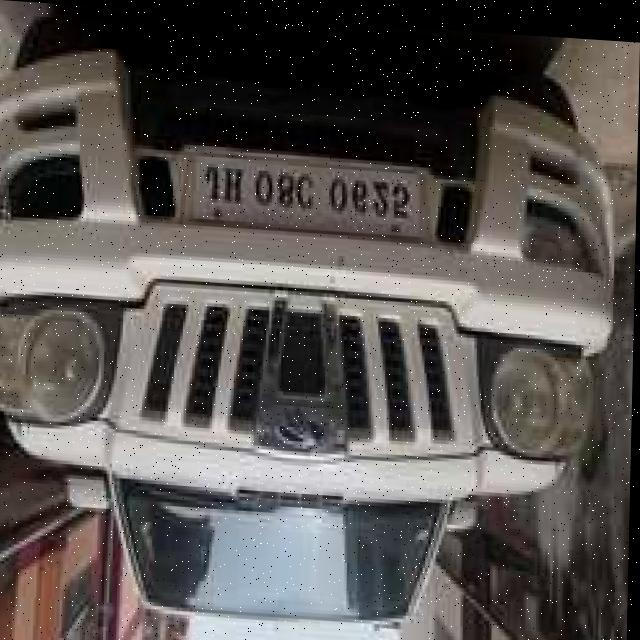plate: (193, 154, 426, 237)
